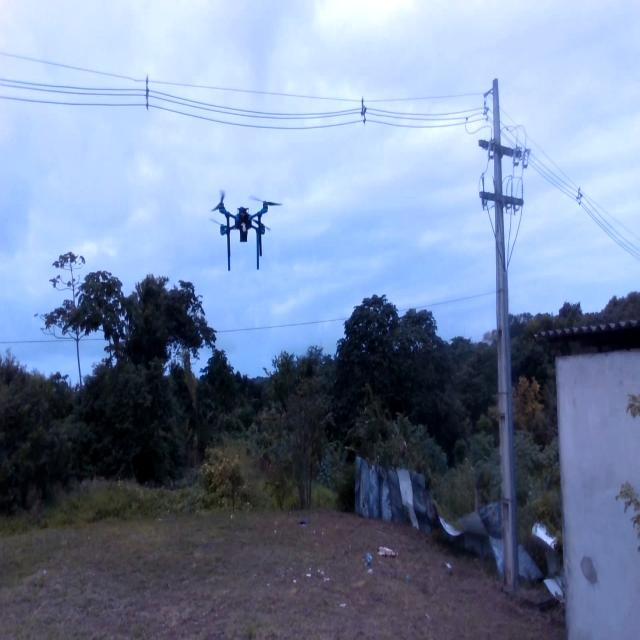-uav-: (199, 184, 283, 280)
